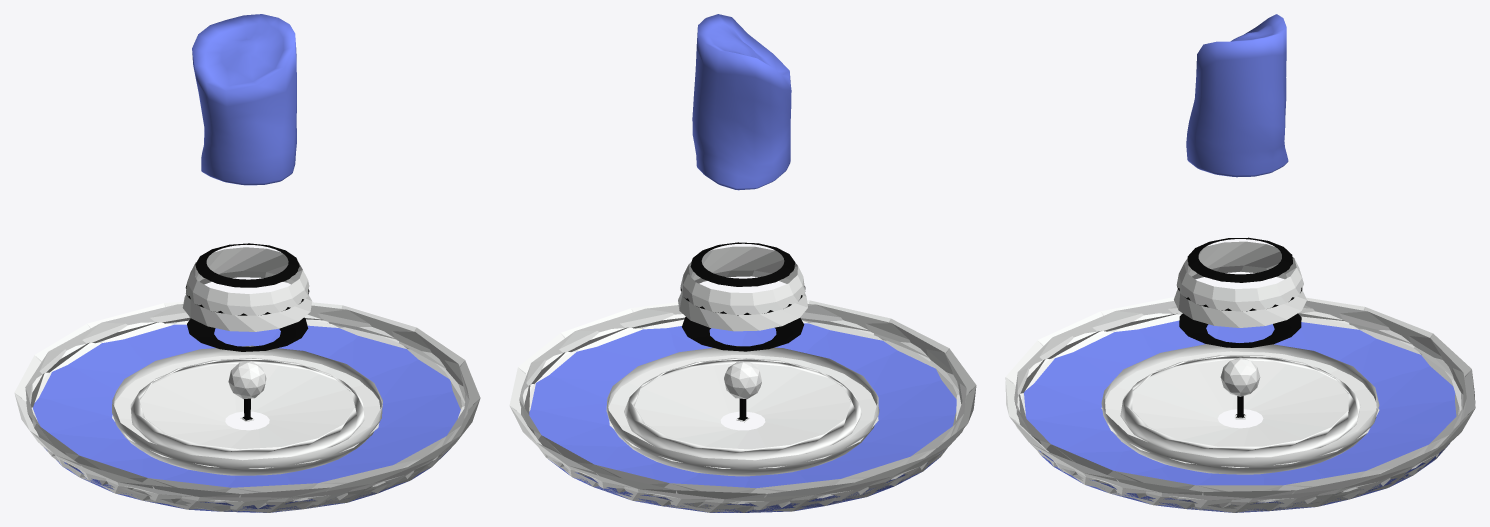
The model's file is candle.glb.
The picture shows the model from 3 angles, left to right: view 1: azimuth 30°, elevation 25°; view 2: azimuth 150°, elevation 25°; view 3: azimuth 270°, elevation 25°; orthographic projection. The views are drawn at different scales.
Parts seen in each view (by area): view 1: pink outside; view 2: pink outside; view 3: pink outside.
Part boxes in pixels (x1,y1,x2,y2): pink outside: [14, 14, 480, 512]; pink outside: [509, 14, 976, 512]; pink outside: [1005, 14, 1475, 512].
Bounding box in the file's own units: 8.35 × 7.95 × 8.35.
